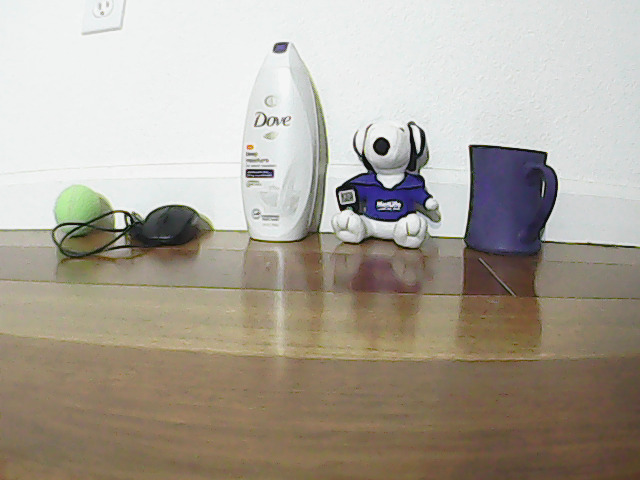ball: (49, 177, 102, 235)
mouse: (141, 208, 208, 247)
mug: (468, 133, 560, 271)
snoopy: (350, 112, 437, 251)
soap: (236, 28, 323, 241)
